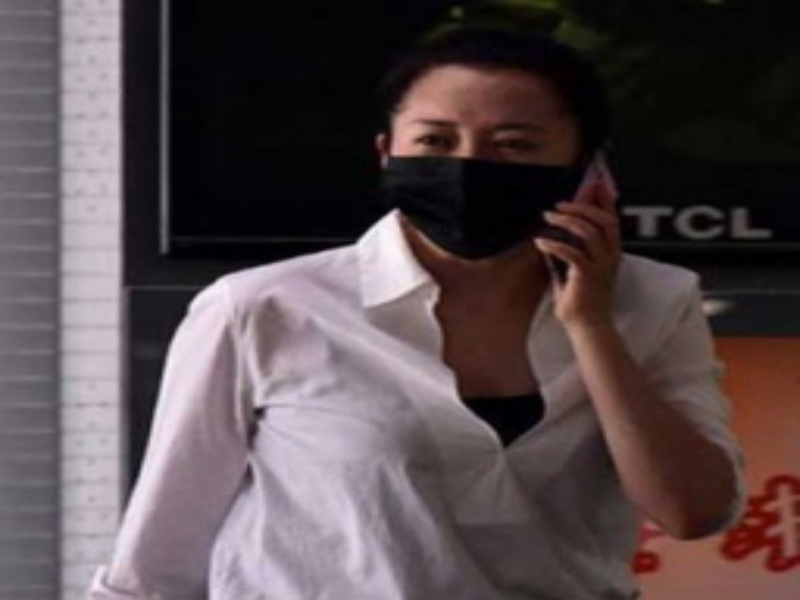ManaoArotava: (365, 29, 621, 283)
